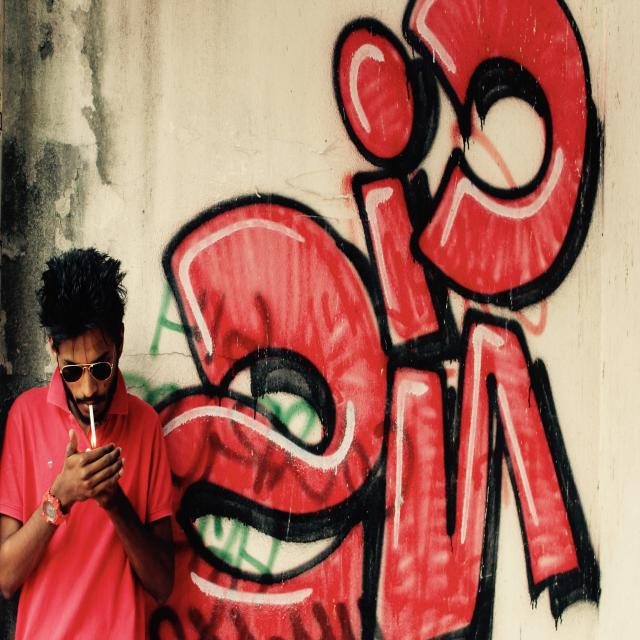adult: (0, 246, 177, 640)
